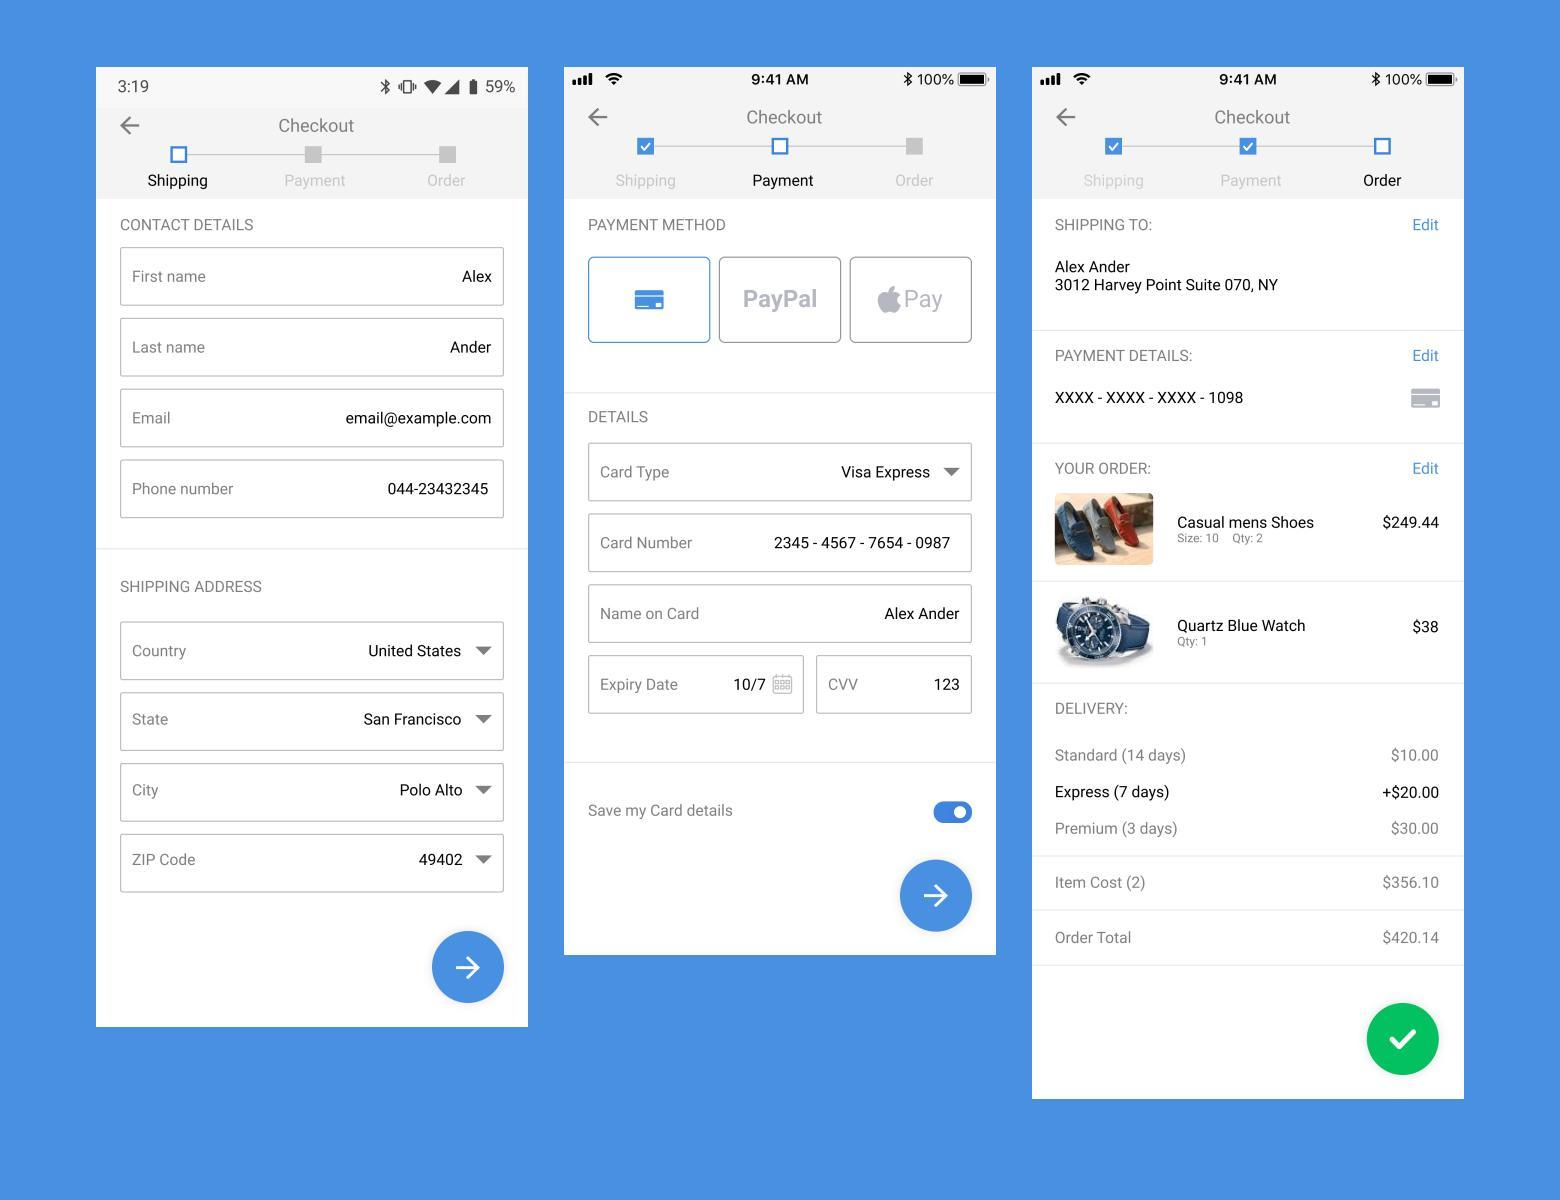checkbox: (907, 139, 925, 158), (305, 147, 323, 165), (440, 147, 457, 165), (638, 140, 655, 156), (1105, 137, 1121, 155), (774, 137, 789, 156), (171, 146, 188, 163), (1242, 139, 1258, 156), (1377, 140, 1391, 158)
dropdown: (587, 442, 974, 504), (120, 833, 507, 895), (120, 621, 507, 682), (120, 692, 507, 753), (120, 764, 507, 824)
icon: (898, 860, 975, 935), (431, 932, 507, 1007), (1367, 1003, 1442, 1079)
input: (118, 245, 507, 310), (118, 316, 507, 381), (118, 387, 507, 451), (588, 512, 974, 575), (586, 584, 974, 645), (118, 459, 507, 521), (587, 654, 806, 717), (817, 655, 974, 716)
label: (1053, 258, 1280, 294), (1053, 392, 1247, 408), (587, 802, 738, 821), (120, 579, 266, 597), (1053, 746, 1190, 766), (1053, 347, 1196, 366), (587, 216, 728, 234), (1055, 782, 1172, 804), (1053, 819, 1178, 839), (1176, 514, 1318, 532), (1053, 459, 1154, 479), (1053, 217, 1156, 236), (120, 218, 256, 232), (1177, 620, 1308, 634), (1053, 875, 1147, 892), (1055, 700, 1130, 718), (1053, 929, 1133, 947), (1382, 783, 1442, 805), (1384, 513, 1442, 534), (585, 408, 651, 426), (1176, 532, 1266, 545), (1381, 929, 1442, 948), (1382, 874, 1442, 892), (1389, 747, 1442, 766), (1392, 822, 1440, 838), (1410, 461, 1442, 476), (1414, 217, 1442, 233), (1409, 349, 1442, 363), (1176, 635, 1210, 648)
switch: (934, 802, 975, 824)
